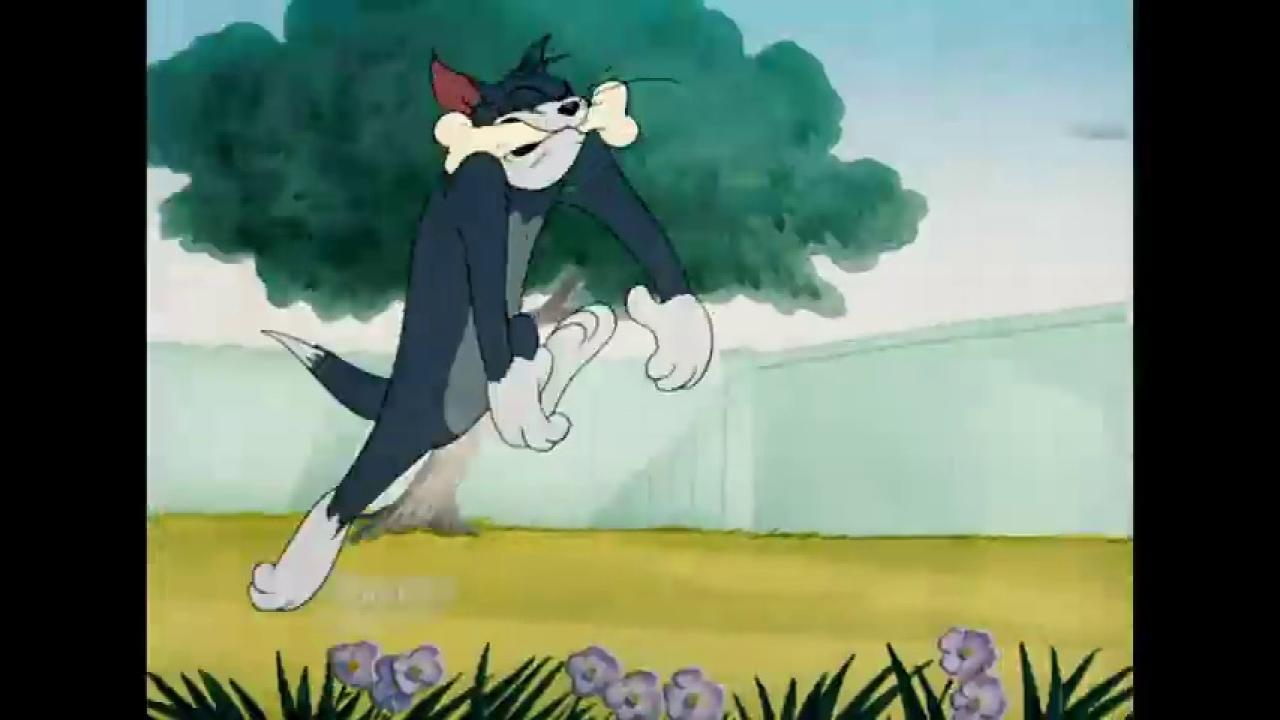Tom: (247, 30, 715, 616)
